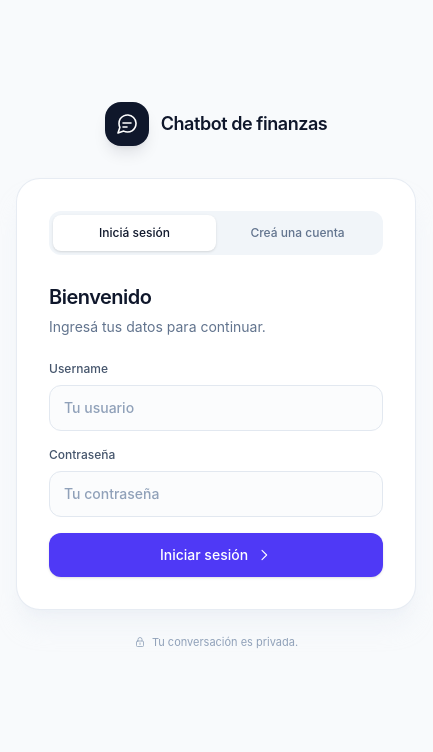
pending registration stays at access form and never enters the chat
Step 1. Click the button "Creá una cuenta" → {"x": 298, "y": 233}, box top-left (216, 215), bottom-right (379, 251)
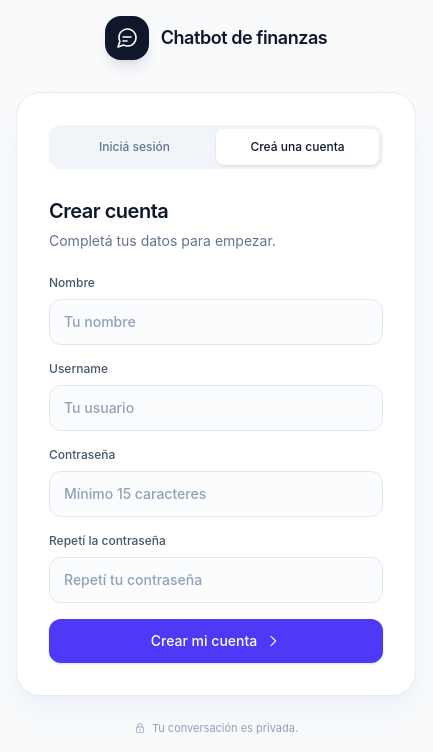
Step 2. Type "Pending" into the field labelled "Nombre" → {"x": 216, "y": 322}, box top-left (49, 299), bottom-right (383, 345)
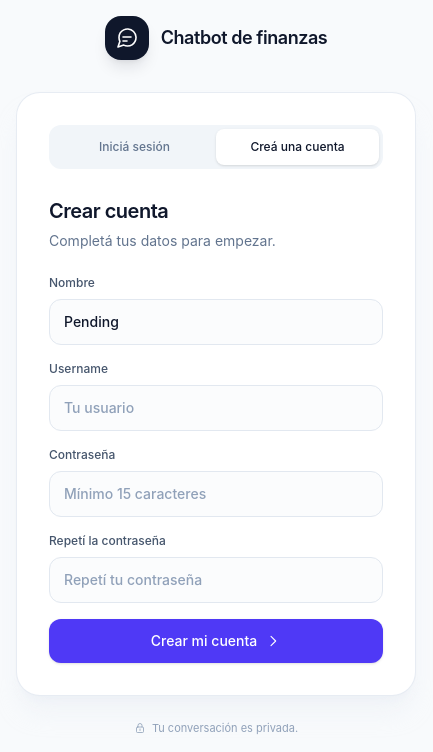
Step 3. Type "pending" into the field labelled "Username" → {"x": 216, "y": 408}, box top-left (49, 385), bottom-right (383, 431)
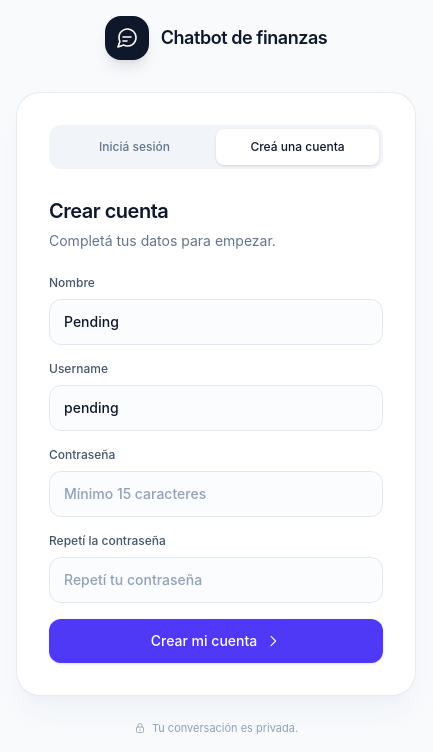
Step 4. Type "a sufficiently long password" into the password field labelled "Contraseña" → {"x": 216, "y": 494}, box top-left (49, 471), bottom-right (383, 517)
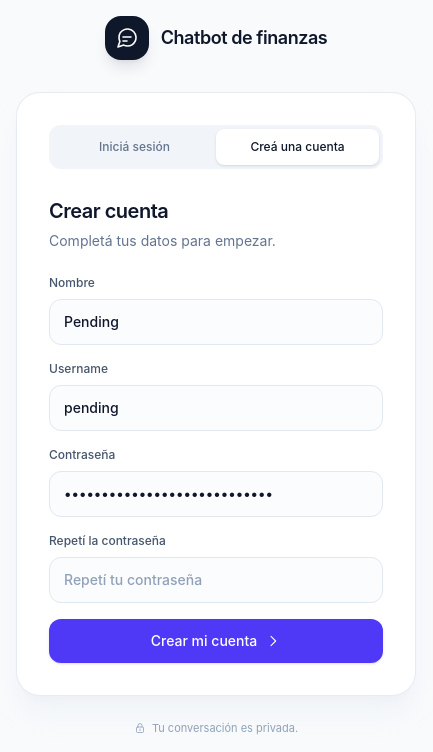
Step 5. Type "a sufficiently long password" into the password field labelled "Repetí la contraseña" → {"x": 216, "y": 580}, box top-left (49, 557), bottom-right (383, 603)
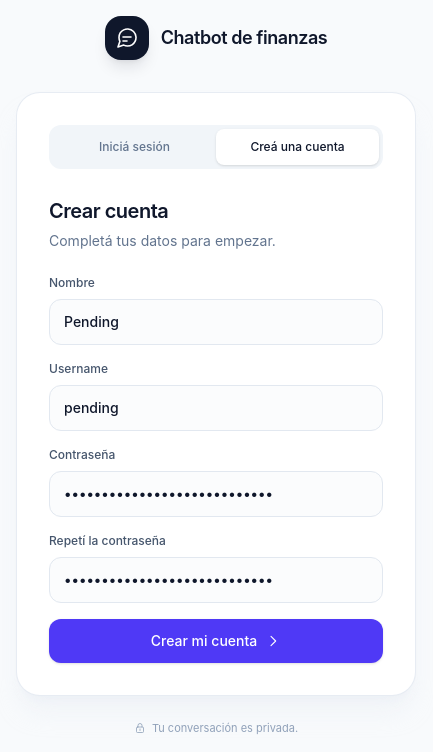
Step 6. Submit the form "Crear mi cuenta", box top-left (49, 275), bottom-right (383, 663)
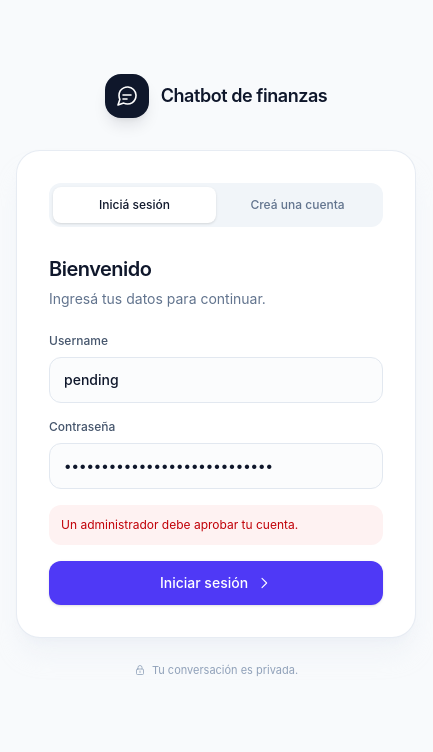
Expected: the message shows "Un administrador", top-left (61, 517), bottom-right (298, 532)
Expected: the button "Iniciar sesión" is shown, top-left (49, 560), bottom-right (383, 604)
